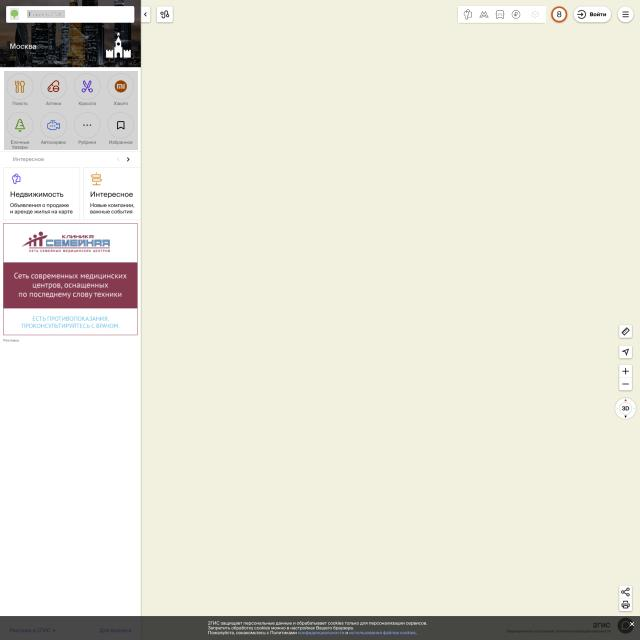CheckedTextView: (6, 6, 134, 23)
ImageView: (2, 224, 138, 342)
carousel: (10, 8, 19, 20)
decoration: (4, 71, 138, 150), (458, 6, 546, 23)
footer: (27, 10, 65, 18)
header: (0, 615, 640, 640)
